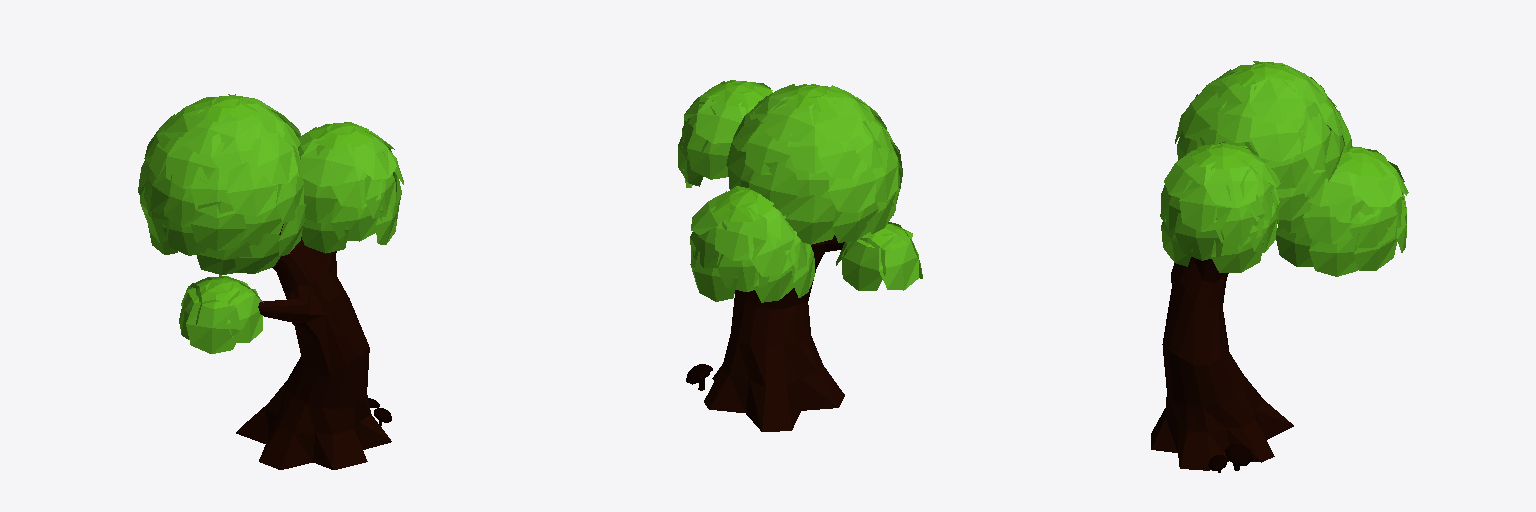
Rendered from Forest_tree.obj.
The picture shows the model from 3 angles: view 1: azimuth 30°, elevation 25°; view 2: azimuth 150°, elevation 25°; view 3: azimuth 270°, elevation 25°; orthographic projection.
Parts seen in each view (by area): view 1: Mushroom_2; view 2: Mushroom_2; view 3: Mushroom_2.
Part boxes in pixels (x1,y1,x2,y2): Mushroom_2: (138,94,403,469); Mushroom_2: (678,80,922,431); Mushroom_2: (1151,61,1408,472).
Size of the model in its own units: 4.15 by 5.99 by 4.09.